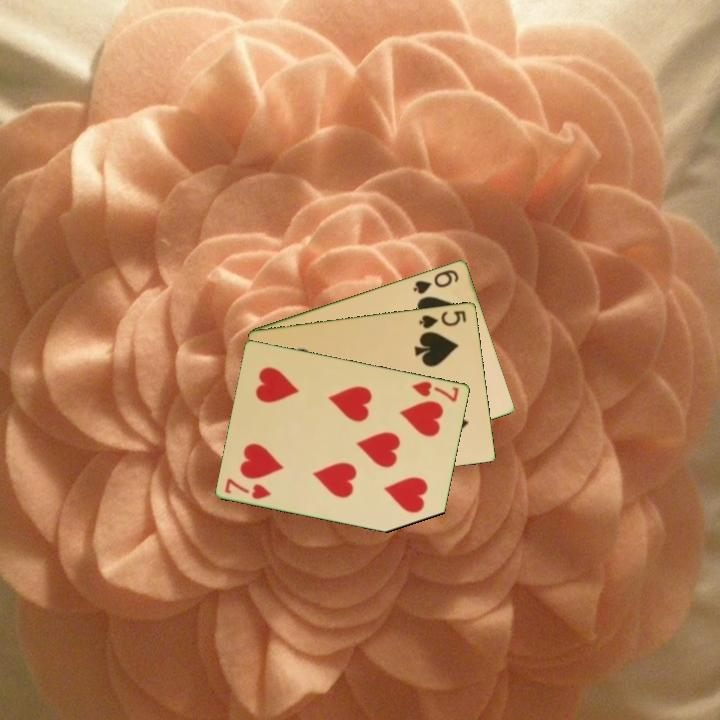5s: (415, 306, 469, 331)
6s: (409, 266, 462, 297)
7h: (409, 377, 462, 405), (221, 474, 274, 502)
